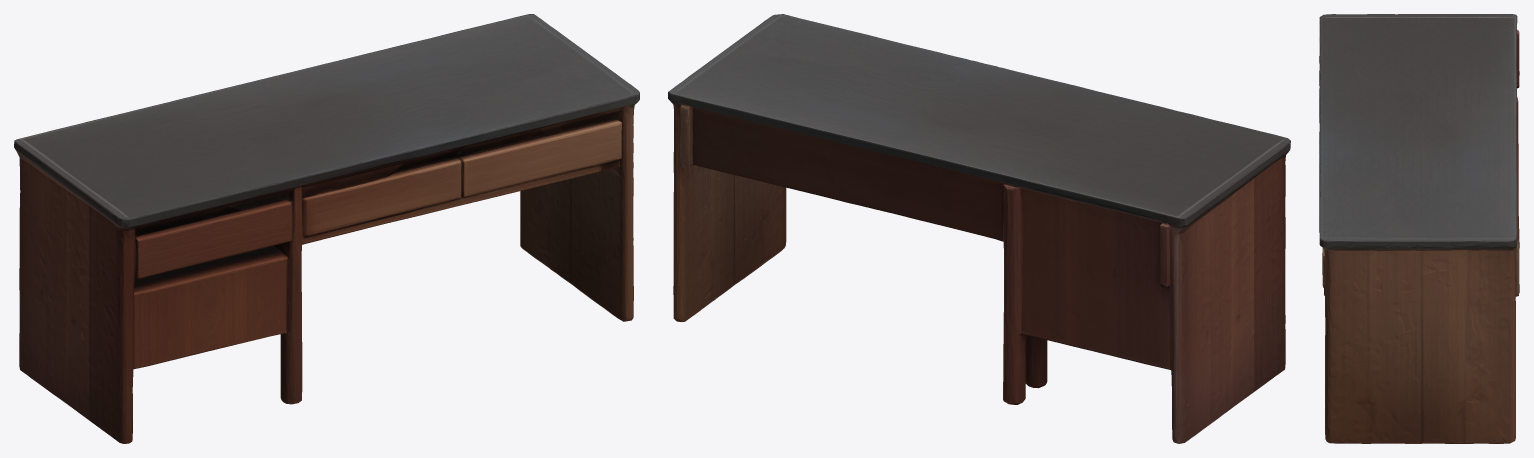
3 renders of one model, left to right at view 1: azimuth 30°, elevation 25°; view 2: azimuth 150°, elevation 25°; view 3: azimuth 270°, elevation 25°, orthographic. The views are drawn at different scales.
Visible parts, largest first — view 1: world; view 2: world; view 3: world.
Part boxes in pixels (bbox=[...]): world: bbox=[14, 14, 639, 443]; world: bbox=[668, 14, 1290, 443]; world: bbox=[1319, 14, 1519, 443].
Bounding box in the file's own units: 1 × 0.4232 × 0.3722.
Materials: 1 (1 with a texture image).
